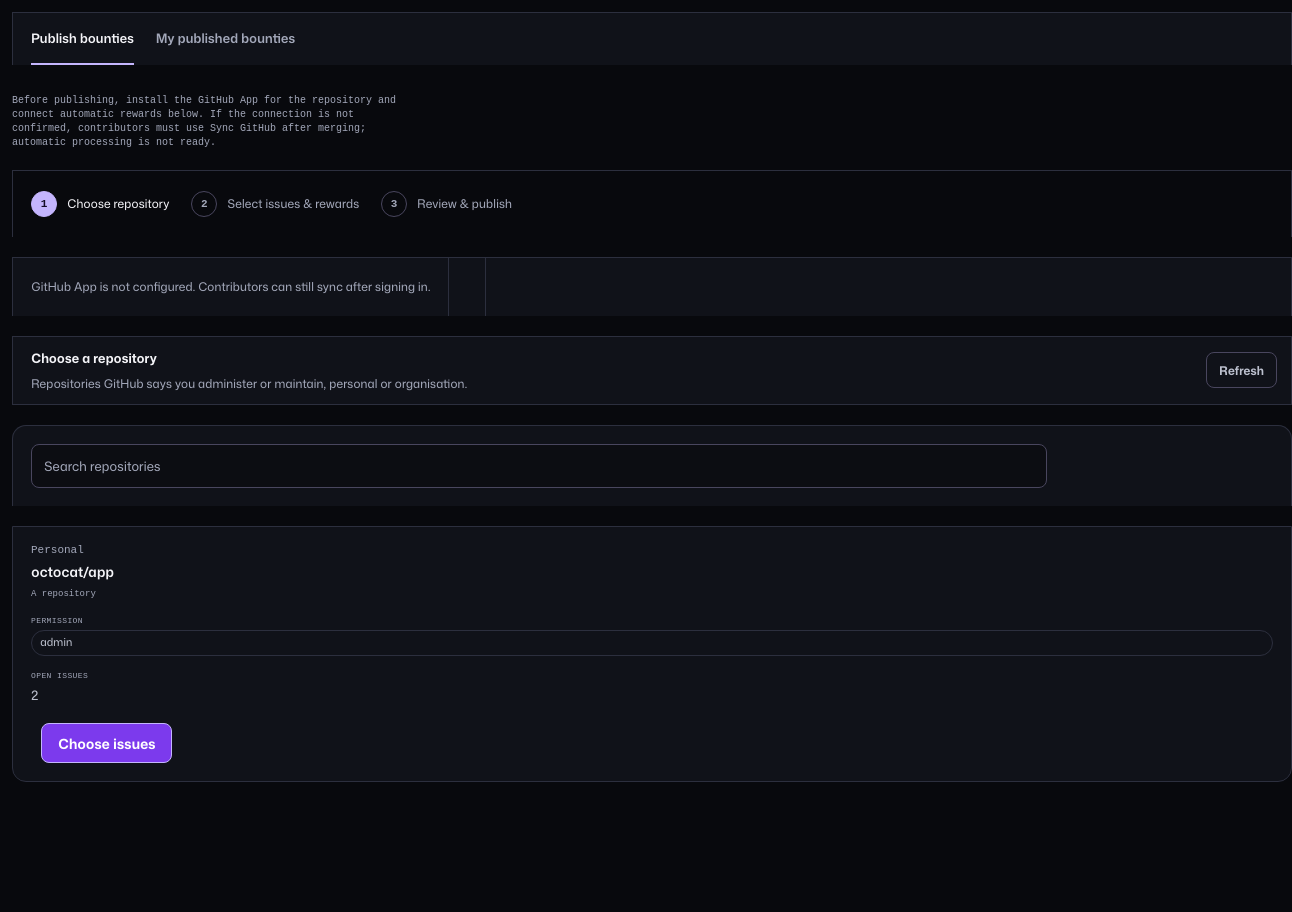
managing what was published › lists published bounties and says when one has been awarded
Click the tab "My published bounties" at {"x": 225, "y": 39}, box [156, 13, 295, 65]
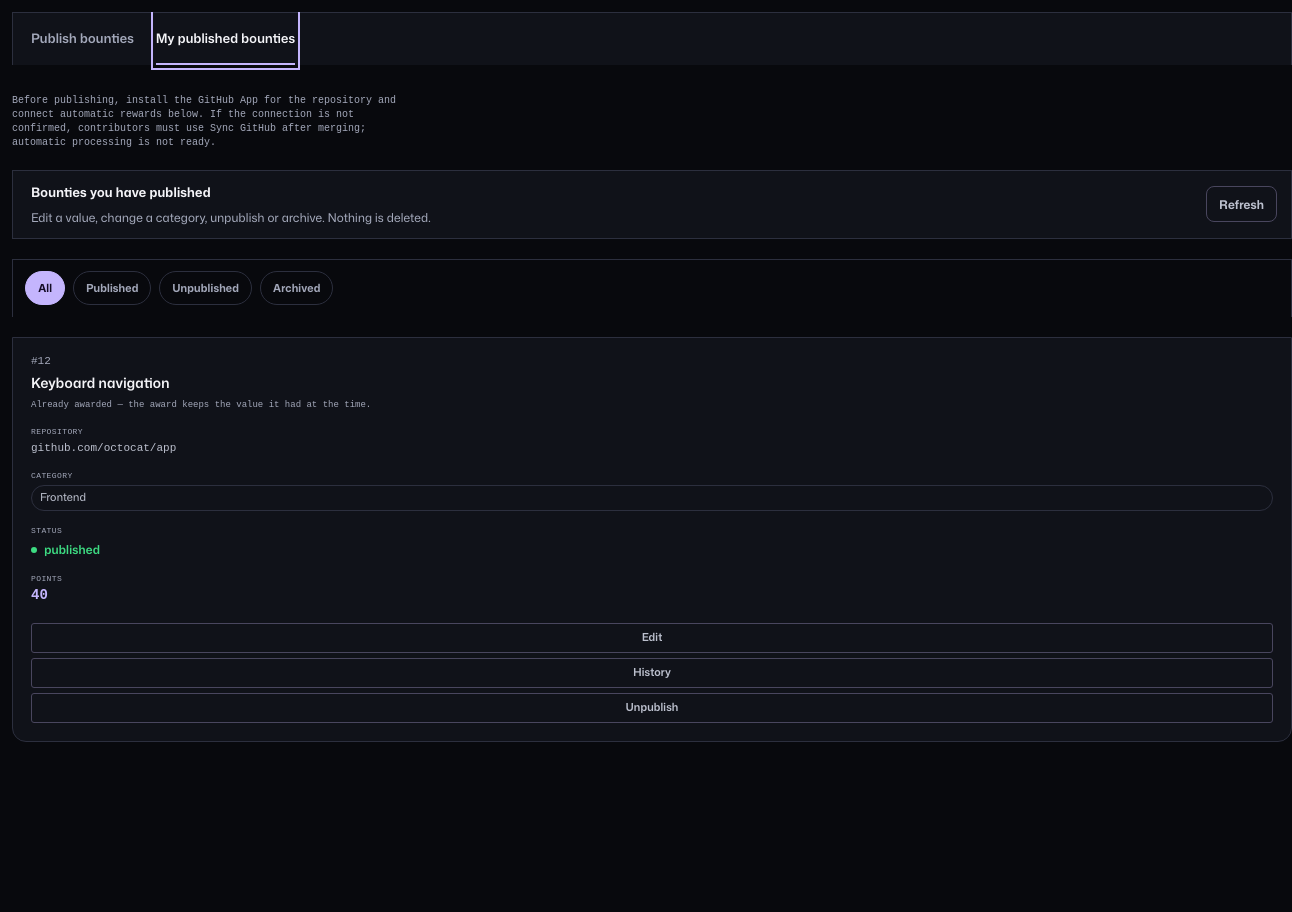
Check: the link "Keyboard navigation" is shown, box [31, 373, 169, 392]
Check: the text "Already awarded" is shown, box [31, 400, 371, 410]
Check: the button "Unpublish" is shown, box [31, 693, 1273, 723]
